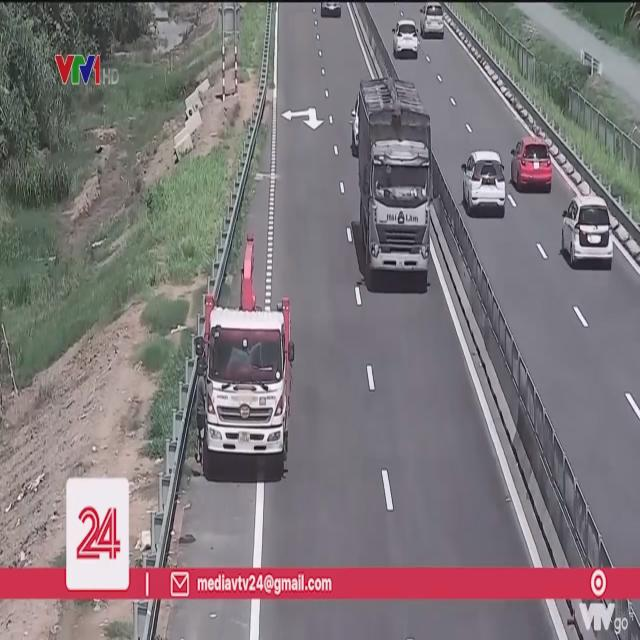car: (559, 194, 613, 270), (461, 152, 508, 219), (512, 134, 556, 192), (393, 20, 419, 60), (420, 4, 443, 40)
truck: (350, 77, 436, 293), (205, 298, 293, 477)
